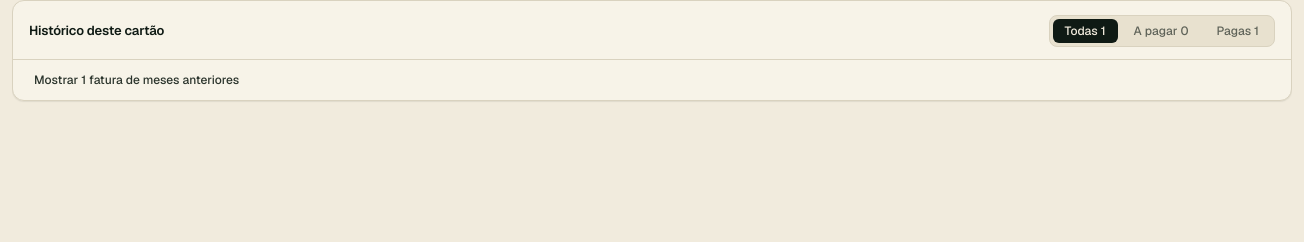
Test: HistoricoFaturas › aba vazia oferece ver todas
Click the radio button labelled "A pagar 0" at (1161, 31), box [1122, 19, 1200, 43]
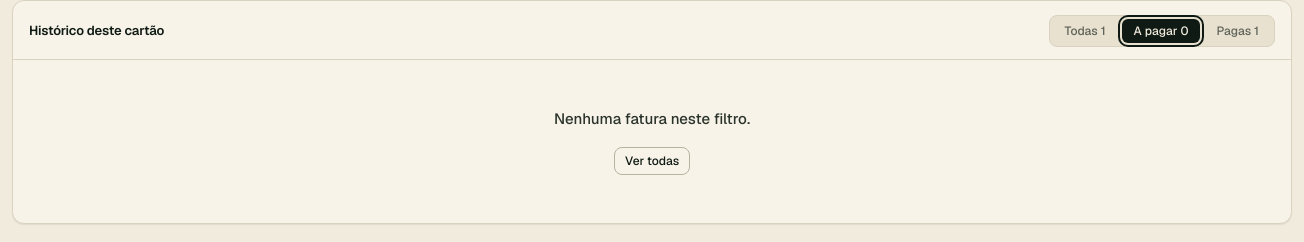
Now the text "Nenhuma fatura neste filtro." is shown, box [554, 108, 750, 130]
Click the button "Ver todas" at (652, 160), box [614, 146, 690, 174]
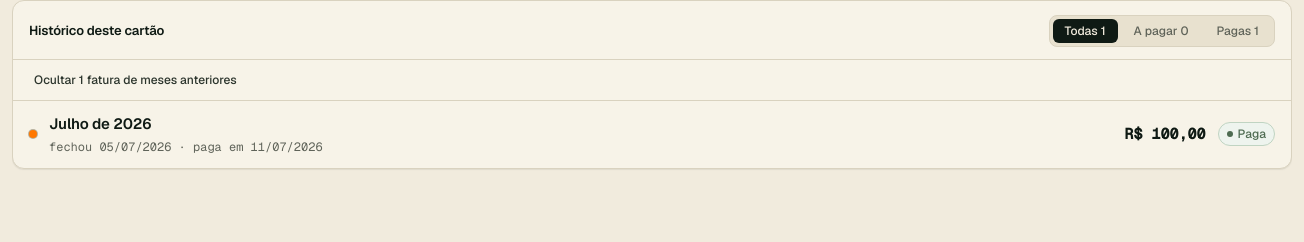
Now the text "Julho de 2026" is shown, box [49, 114, 151, 133]
